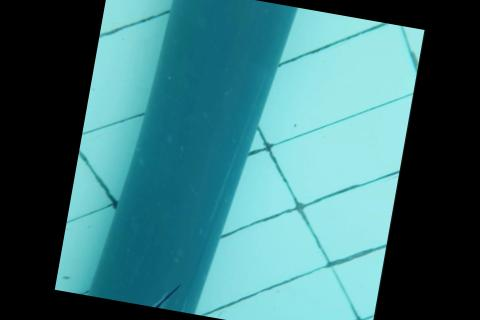keretakan: (110, 271, 184, 312)
